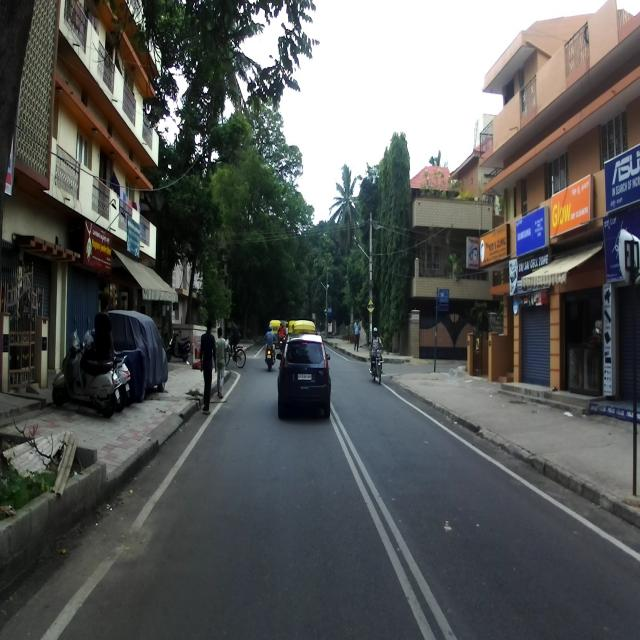car: (105, 308, 168, 403), (276, 333, 333, 424)
scooter: (52, 313, 122, 419), (81, 314, 130, 413)
